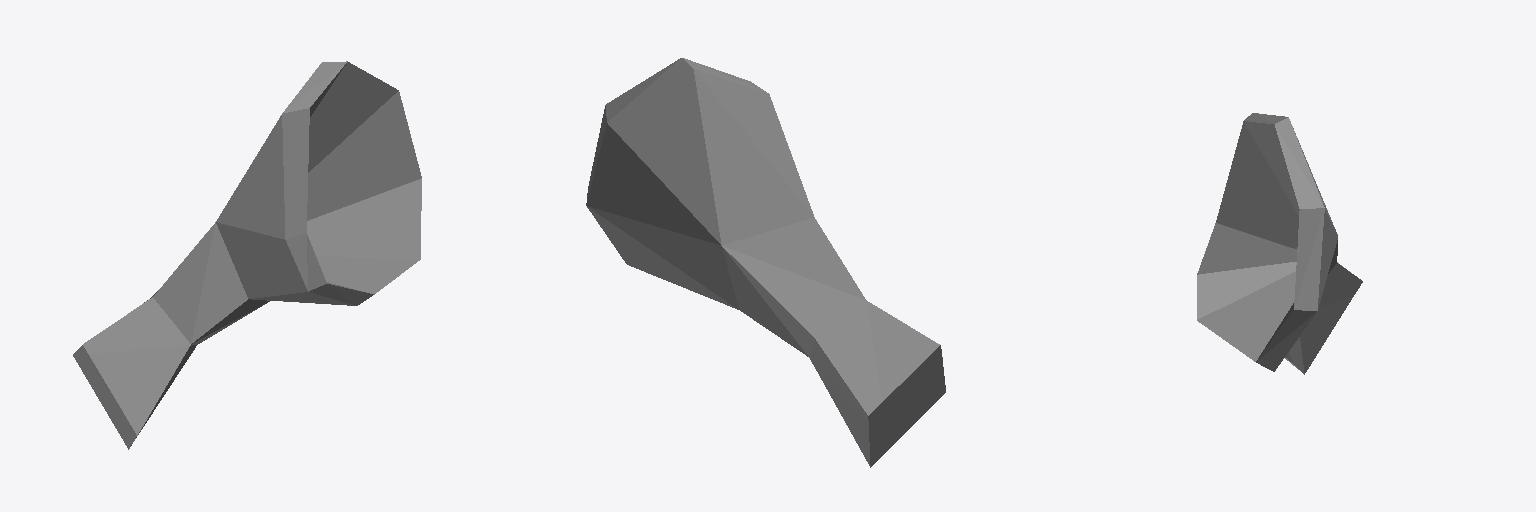
Rendered from sh_oreja_iz.obj.
The picture shows the model from 3 angles: view 1: azimuth 30°, elevation 25°; view 2: azimuth 150°, elevation 25°; view 3: azimuth 270°, elevation 25°; orthographic projection.
Parts seen in each view (by area): view 1: Shrek; view 2: Shrek; view 3: Shrek.
Boxes of the visible parts, x1=… form: Shrek: x1=73, y1=61, x2=421, y2=449; Shrek: x1=586, y1=58, x2=945, y2=467; Shrek: x1=1197, y1=113, x2=1362, y2=374.
Bounding box in the file's own units: 6.36 × 6.14 × 2.66.